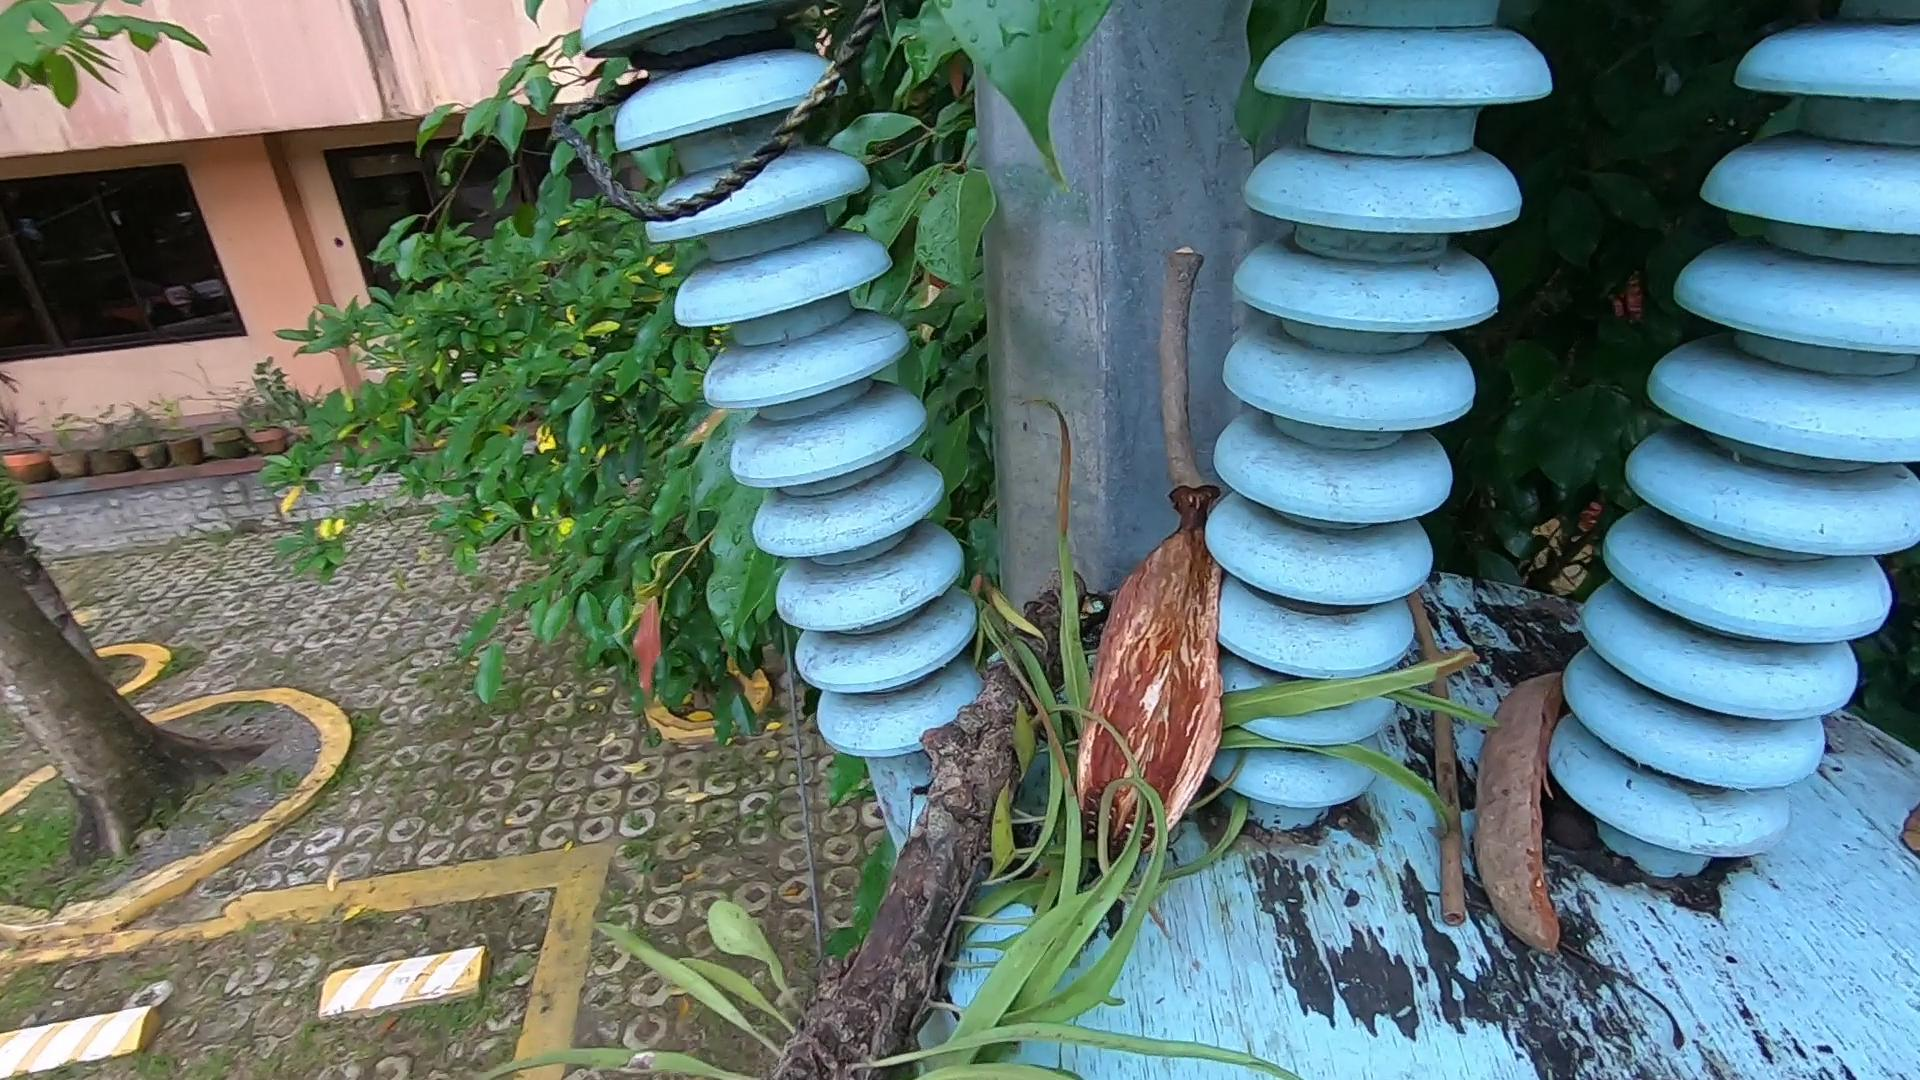branch with leaves: (485, 394, 1499, 1080)
leaf: (1894, 793, 1920, 852)
mahogany fruit: (934, 476, 1317, 880), (1480, 657, 1611, 994)
tree branch: (1404, 564, 1505, 936), (1141, 243, 1255, 505)
